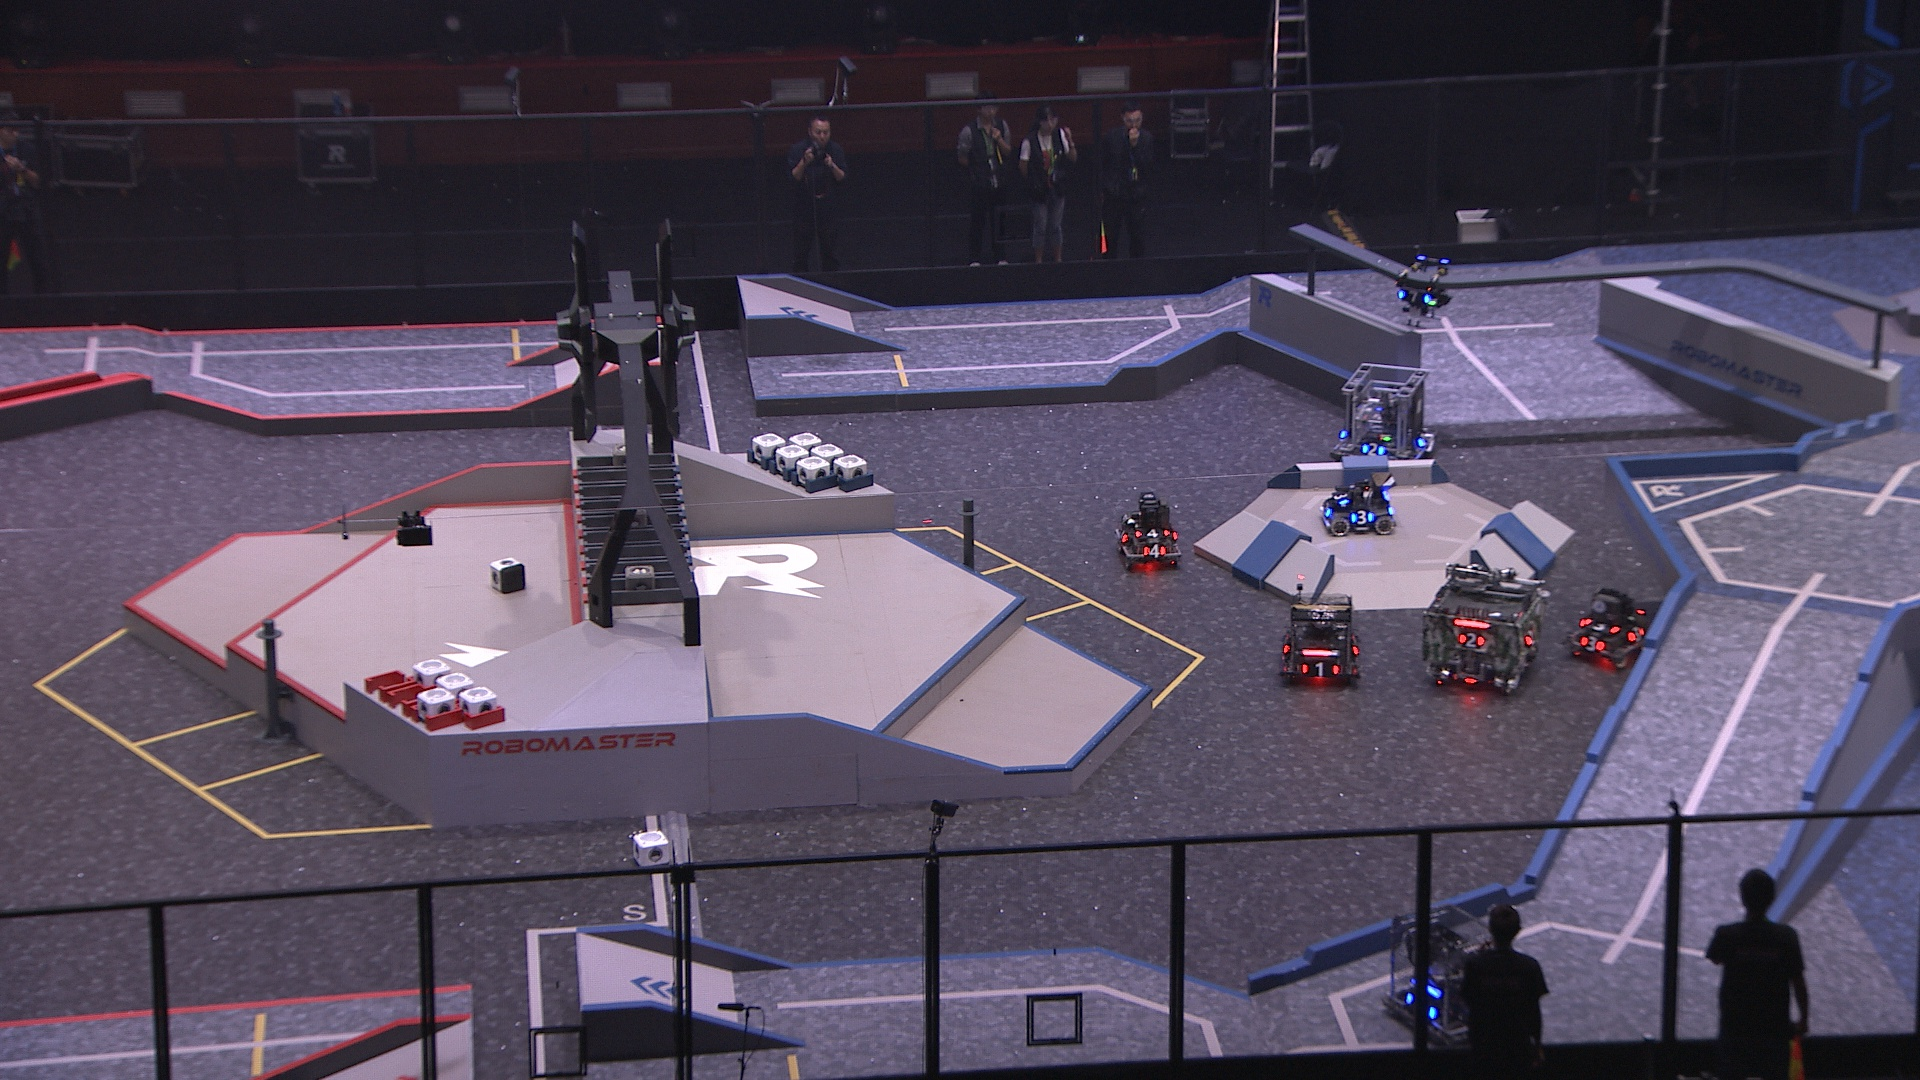armor: (1396, 287, 1436, 310), (1300, 661, 1338, 678), (1589, 616, 1619, 633), (1141, 542, 1167, 560), (1456, 632, 1486, 647), (1348, 509, 1375, 526), (1580, 633, 1605, 651), (1361, 442, 1386, 458), (1627, 624, 1646, 644), (1329, 489, 1349, 508), (1135, 527, 1168, 537), (1523, 628, 1538, 647), (1117, 529, 1131, 547), (1321, 500, 1332, 524), (1352, 633, 1361, 659)
car: (1385, 901, 1518, 1052), (1418, 562, 1545, 694), (1331, 363, 1437, 467), (1275, 589, 1366, 694), (1565, 591, 1656, 669), (1313, 473, 1400, 541), (1112, 491, 1182, 572)
watcher: (1394, 255, 1453, 318)
